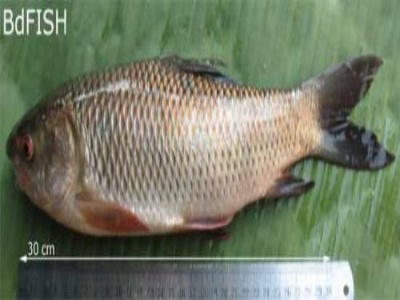rohu: (5, 49, 400, 241)
